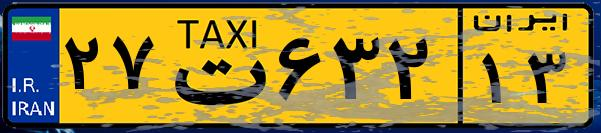1: (475, 38, 525, 113)
2: (385, 28, 445, 110), (57, 26, 110, 100)
3: (330, 28, 385, 110), (525, 38, 570, 115)
6: (270, 28, 330, 110)
7: (110, 28, 158, 98)
ت: (158, 12, 270, 120)
